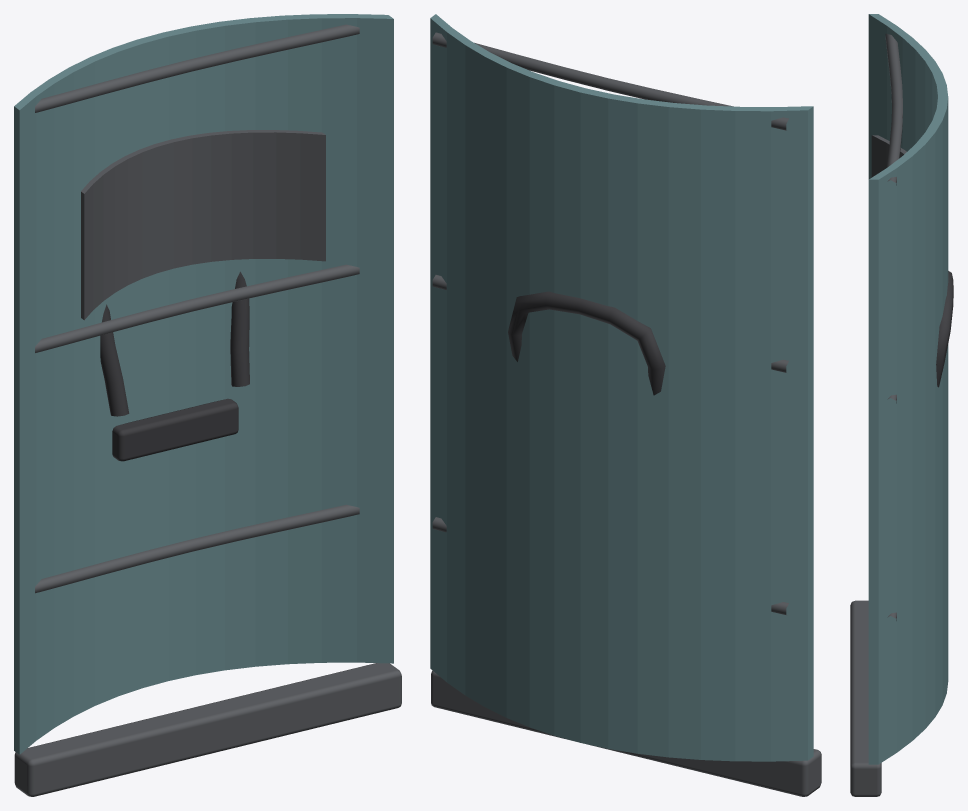
The model's file is tactical-shooter-hill-town-riot-shield-dbe37eaa__27562.glb.
The picture shows the model from 3 angles, left to right: view 1: azimuth 30°, elevation 25°; view 2: azimuth 150°, elevation 25°; view 3: azimuth 270°, elevation 25°; orthographic projection. The views are drawn at different scales.
Visible parts, largest first — view 1: riot-shield; view 2: riot-shield; view 3: riot-shield.
Part boxes in pixels (bbox=[...]): riot-shield: bbox=[14, 14, 401, 796]; riot-shield: bbox=[430, 14, 821, 796]; riot-shield: bbox=[850, 14, 953, 796].
Size of the model in its own units: 0.62 by 1.08 by 0.1637.
